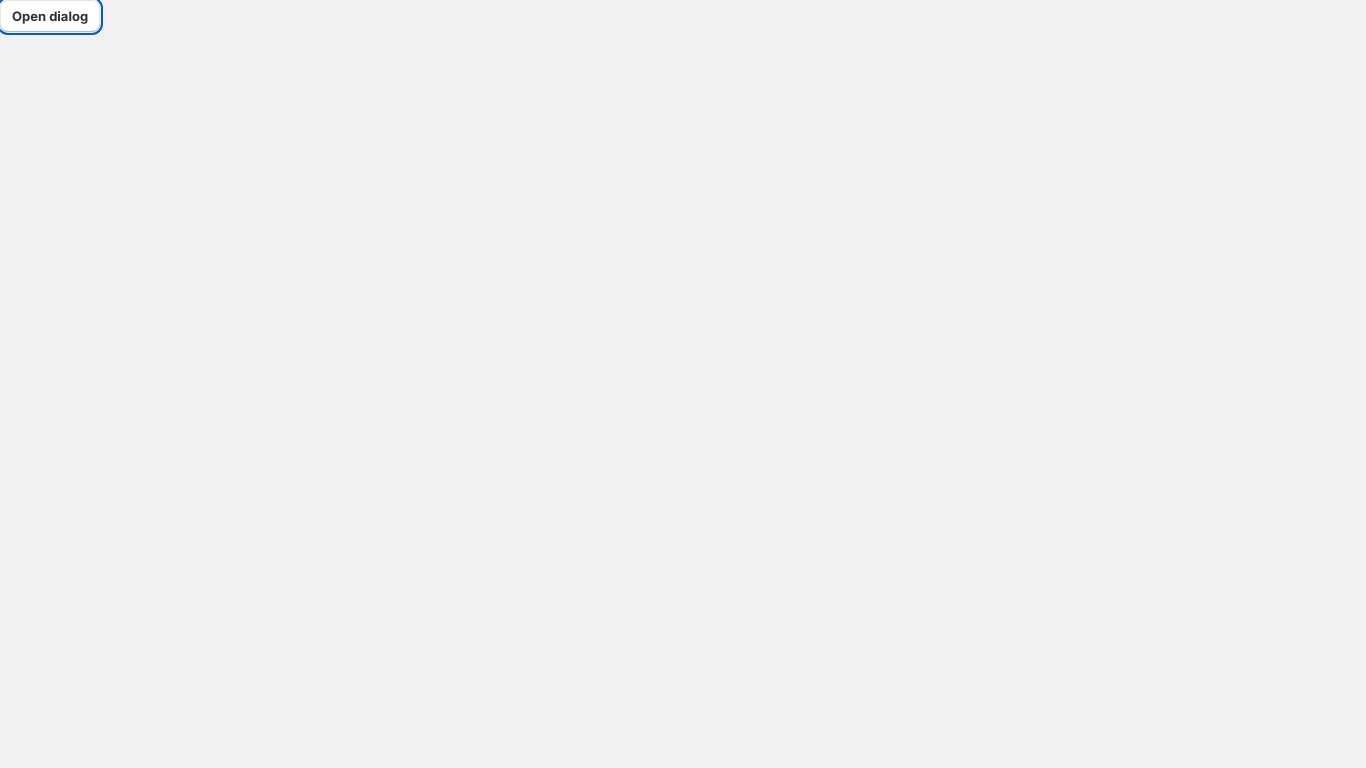
Test: Modal › closes on Escape and returns focus to the opener
Click the button "Open dialog".
click(50, 16)  # box [0,0,100,32]
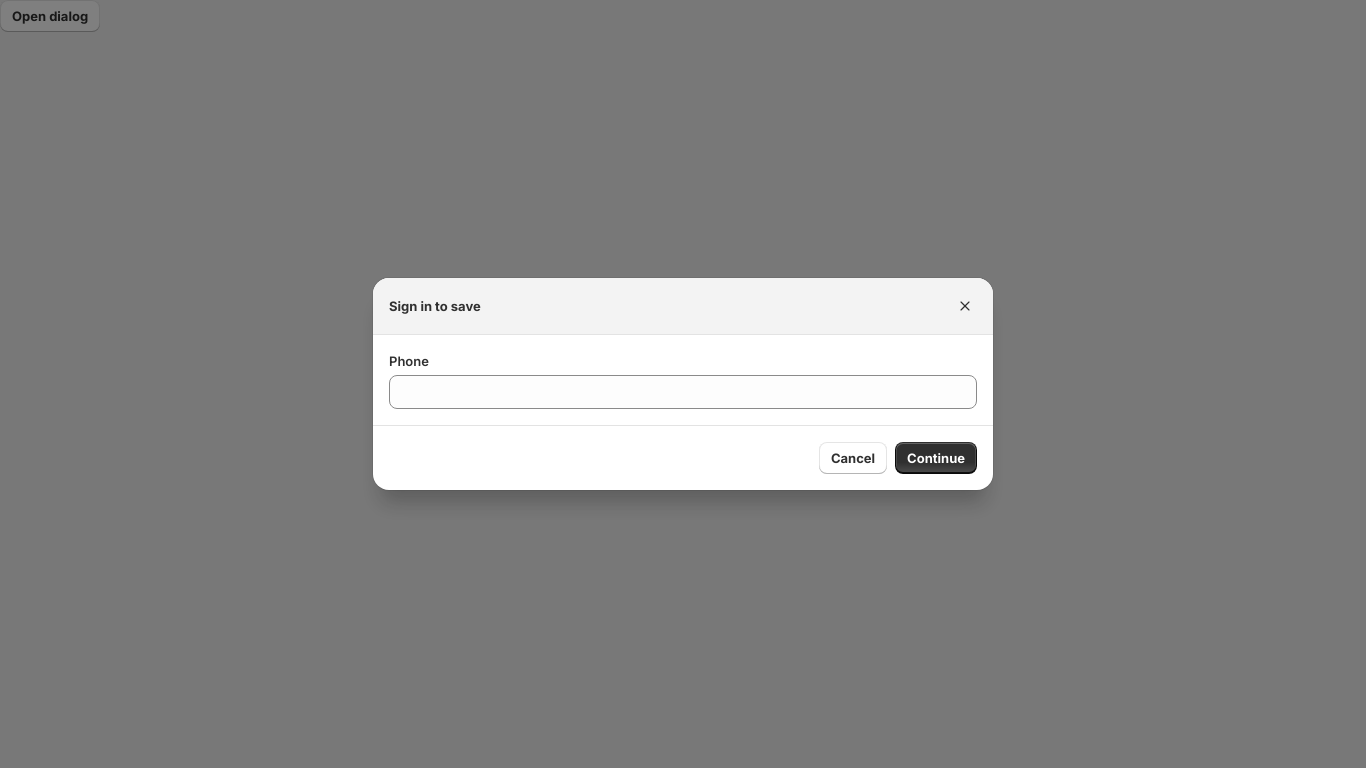
Press Escape in the dialog, box [373,278,993,490]
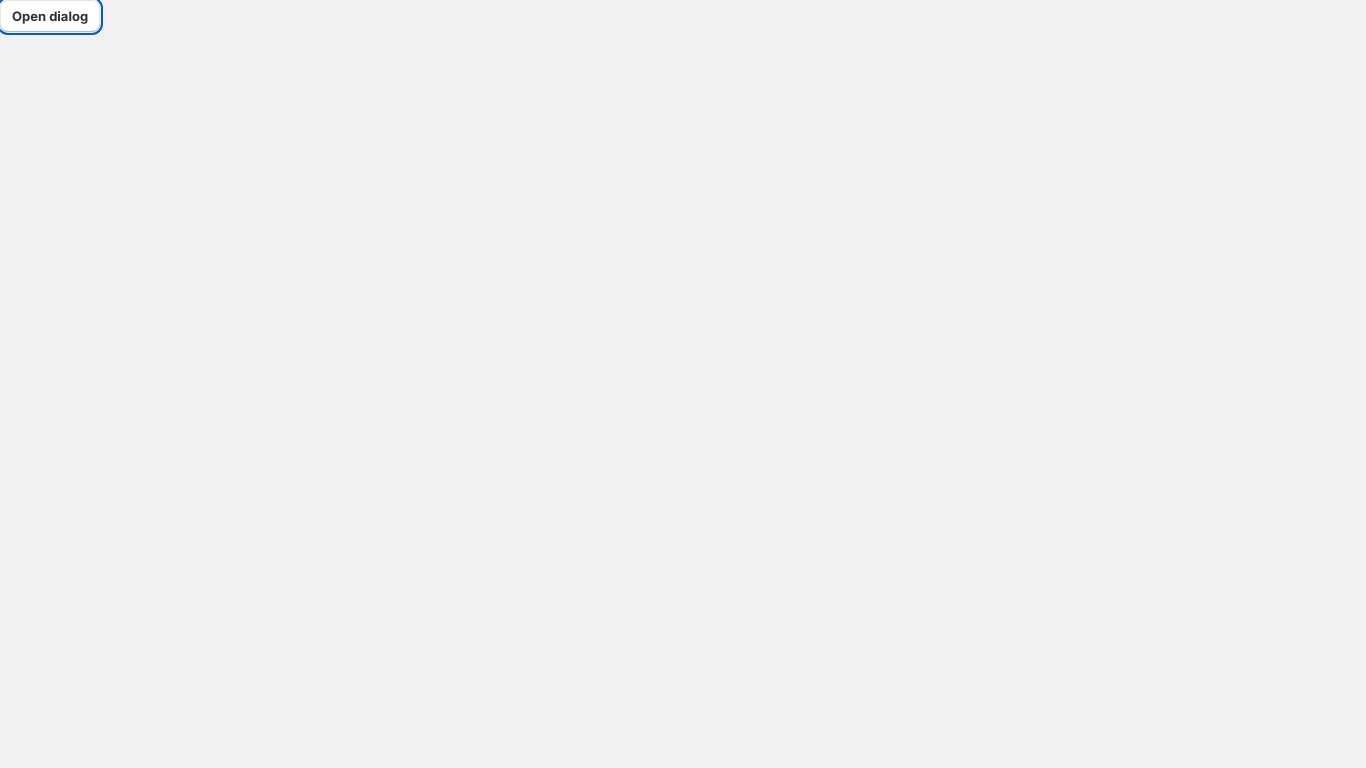
Check: the dialog is gone
